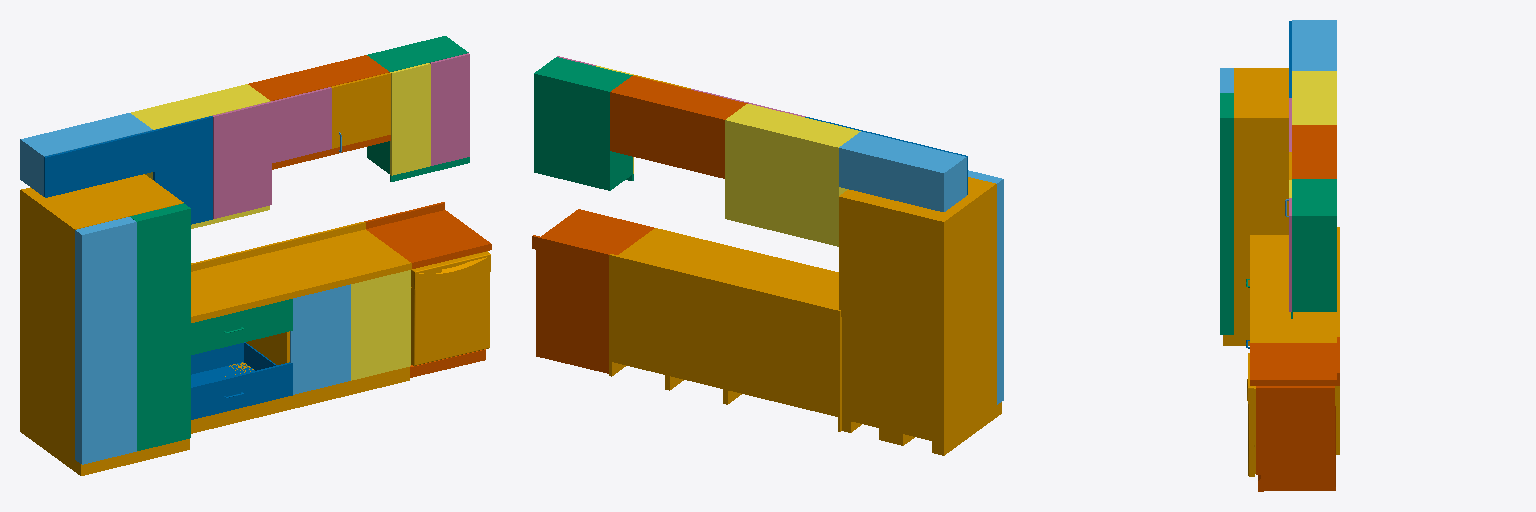
URDF robot description (unnamed):
<robot name="unnamed" version="1.0">
  <joint name="cab_1" type="fixed">
    <origin rpy="0.00000 0.00000 -0.00000" xyz="-0.00000 -0.00000 1.79000"/>
    <parent link="Cabinet1.001_link"/>
    <child link="Cabinet1_link"/>
  </joint>
  <joint name="cab_d_1" type="revolute">
    <limit lower="0.00000" upper="1.50000" effort="0.00000" velocity="0.00000"/>
    <origin rpy="1.57080 -0.00000 1.57080" xyz="-0.00000 -0.31000 0.29600"/>
    <parent link="Cabinet1_link"/>
    <child link="Cabinet1_Door_link"/>
    <axis xyz="0.00000 0.00000 -1.00000"/>
  </joint>
  <joint name="cab_3_d_2" type="prismatic">
    <limit lower="0.00000" upper="0.20000" effort="0.00000" velocity="0.00000"/>
    <origin rpy="1.57080 0.00000 0.00000" xyz="-0.00000 -0.60000 0.23667"/>
    <parent link="Cabinet1.003_link"/>
    <child link="Drawer.004_link"/>
    <axis xyz="0.00000 0.00000 1.00000"/>
  </joint>
  <joint name="cab_3_d_3" type="prismatic">
    <limit lower="0.00000" upper="0.20000" effort="0.00000" velocity="0.00000"/>
    <origin rpy="1.57080 0.00000 0.00000" xyz="-0.00000 -0.60000 -0.00000"/>
    <parent link="Cabinet1.003_link"/>
    <child link="Drawer.003_link"/>
    <axis xyz="0.00000 0.00000 1.00000"/>
  </joint>
  <joint name="cab_4" type="fixed">
    <origin rpy="0.00000 0.00000 -0.00000" xyz="1.73500 -0.00000 1.60106"/>
    <parent link="Cabinet1.001_link"/>
    <child link="Cabinet1.002_link"/>
  </joint>
  <joint name="cab_4_d_1" type="revolute">
    <limit lower="0.00000" upper="1.50000" effort="0.00000" velocity="0.00000"/>
    <origin rpy="0.00000 0.00000 0.00000" xyz="0.00000 -0.31100 0.00000"/>
    <parent link="Cabinet1.002_link"/>
    <child link="Cabinet1_Door.002_link"/>
    <axis xyz="0.00000 0.00000 -1.00000"/>
  </joint>
  <joint name="cab_4_h_1" type="fixed">
    <origin rpy="-0.00000 1.57080 0.00000" xyz="0.39992 -0.02000 0.03777"/>
    <parent link="Cabinet1_Door.002_link"/>
    <child link="Handle.001_link"/>
  </joint>
  <joint name="cab_4_d_2" type="revolute">
    <limit lower="0.00000" upper="1.50000" effort="0.00000" velocity="0.00000"/>
    <origin rpy="0.00000 0.00000 0.00000" xyz="0.90900 -0.31100 0.00000"/>
    <parent link="Cabinet1.002_link"/>
    <child link="Cabinet2_Door.001_link"/>
    <axis xyz="0.00000 0.00000 1.00000"/>
  </joint>
  <joint name="cab_4_h_2" type="fixed">
    <origin rpy="0.00000 1.57080 0.00000" xyz="-0.39992 -0.02000 0.03777"/>
    <parent link="Cabinet2_Door.001_link"/>
    <child link="Handle.002_link"/>
  </joint>
  <joint name="cab_5" type="fixed">
    <origin rpy="0.00000 0.00000 -0.00000" xyz="2.64500 -0.00000 1.29806"/>
    <parent link="Cabinet1.001_link"/>
    <child link="Cabinet1.004_link"/>
  </joint>
  <joint name="cab_5_d_1" type="revolute">
    <limit lower="0.00000" upper="1.50000" effort="0.00000" velocity="0.00000"/>
    <origin rpy="0.00000 0.00000 0.00000" xyz="0.00000 -0.31100 0.00000"/>
    <parent link="Cabinet1.004_link"/>
    <child link="Cabinet1_Door.004_link"/>
    <axis xyz="0.00000 0.00000 -1.00000"/>
  </joint>
  <joint name="cab_5_h_1" type="fixed">
    <origin rpy="0.00000 1.57080 0.00000" xyz="0.24692 -0.02000 0.07577"/>
    <parent link="Cabinet1_Door.004_link"/>
    <child link="Handle.005_link"/>
  </joint>
  <joint name="cab_h_1" type="fixed">
    <origin rpy="-1.57080 -1.57080 0.00000" xyz="-0.02100 -0.25230 0.43077"/>
    <parent link="Cabinet1_Door_link"/>
    <child link="Handle_link"/>
  </joint>
  <joint name="cab_5_d_2" type="revolute">
    <limit lower="0.00000" upper="1.50000" effort="0.00000" velocity="0.00000"/>
    <origin rpy="0.00000 0.00000 0.00000" xyz="0.60300 -0.31100 -0.00000"/>
    <parent link="Cabinet1.004_link"/>
    <child link="Cabinet2_Door.003_link"/>
    <axis xyz="0.00000 0.00000 1.00000"/>
  </joint>
  <joint name="cab_5_h_2" type="fixed">
    <origin rpy="0.00000 1.57080 0.00000" xyz="-0.24692 -0.02000 0.07577"/>
    <parent link="Cabinet2_Door.003_link"/>
    <child link="Handle.006_link"/>
  </joint>
  <joint name="cab_6" type="fixed">
    <origin rpy="0.00000 0.00000 -0.00000" xyz="1.72170 0.00149 0.01860"/>
    <parent link="Cabinet1.001_link"/>
    <child link="Cabinet1.005_link"/>
  </joint>
  <joint name="cab_6_d_1" type="revolute">
    <limit lower="0.00000" upper="1.50000" effort="0.00000" velocity="0.00000"/>
    <origin rpy="0.00000 0.00000 0.00000" xyz="-0.00000 -0.60100 0.00000"/>
    <parent link="Cabinet1.005_link"/>
    <child link="Cabinet1_Door.005_link"/>
    <axis xyz="0.00000 0.00000 -1.00000"/>
  </joint>
  <joint name="cab_6_h_1" type="fixed">
    <origin rpy="0.00000 1.57080 0.00000" xyz="0.40292 -0.00073 0.54577"/>
    <parent link="Cabinet1_Door.005_link"/>
    <child link="Handle.007_link"/>
  </joint>
  <joint name="cab_6_d_2" type="revolute">
    <limit lower="0.00000" upper="1.50000" effort="0.00000" velocity="0.00000"/>
    <origin rpy="0.00000 0.00000 0.00000" xyz="0.91500 -0.60100 0.00000"/>
    <parent link="Cabinet1.005_link"/>
    <child link="Cabinet2_Door.004_link"/>
    <axis xyz="0.00000 0.00000 1.00000"/>
  </joint>
  <joint name="cab_6_h_2" type="fixed">
    <origin rpy="0.00000 1.57080 0.00000" xyz="-0.40292 -0.00073 0.54577"/>
    <parent link="Cabinet2_Door.004_link"/>
    <child link="Handle.008_link"/>
  </joint>
  <joint name="dishwasher" type="fixed">
    <origin rpy="0.00000 0.00000 -0.00000" xyz="2.63770 0.02076 0.72860"/>
    <parent link="Cabinet1.001_link"/>
    <child link="Countertop1_link"/>
  </joint>
  <joint name="dishwasher_base_1" type="fixed">
    <origin rpy="0.00000 0.00000 0.00000" xyz="0.59766 -0.57260 -0.82556"/>
    <parent link="Countertop1_link"/>
    <child link="base_link"/>
  </joint>
  <joint name="dishwasher_d" type="revolute">
    <limit lower="0.00000" upper="1.50000" effort="0.00000" velocity="0.00000"/>
    <origin rpy="-0.00000 1.57080 0.00000" xyz="-0.58432 0.02656 0.13047"/>
    <parent link="base_link"/>
    <child link="door_0_link"/>
    <axis xyz="0.00000 0.00000 1.00000"/>
  </joint>
  <joint name="cab_2" type="fixed">
    <origin rpy="0.00000 0.00000 -0.00000" xyz="1.28500 -0.27900 1.24806"/>
    <parent link="Cabinet1.001_link"/>
    <child link="Baseboard2.001_link"/>
  </joint>
  <joint name="fridge_d_1" type="revolute">
    <limit lower="0.00000" upper="1.50000" effort="0.00000" velocity="0.00000"/>
    <origin rpy="0.00000 0.00000 -0.00000" xyz="-0.00000 -0.70560 0.00000"/>
    <parent link="Cabinet1.001_link"/>
    <child link="Cabinet1_Door.001_link"/>
    <axis xyz="0.00000 0.00000 -1.00000"/>
  </joint>
  <joint name="fridge_d_2" type="revolute">
    <limit lower="0.00000" upper="1.50000" effort="0.00000" velocity="0.00000"/>
    <origin rpy="0.00000 0.00000 -0.00000" xyz="0.83400 -0.72100 0.00000"/>
    <parent link="Cabinet1.001_link"/>
    <child link="Cabinet2_Door_link"/>
    <axis xyz="0.00000 0.00000 1.00000"/>
  </joint>
  <joint name="cab_2_d_1" type="revolute">
    <limit lower="0.00000" upper="1.50000" effort="0.00000" velocity="0.00000"/>
    <origin rpy="0.00000 0.00000 0.00000" xyz="-0.45000 -0.03200 0.05000"/>
    <parent link="Baseboard2.001_link"/>
    <child link="Cabinet1_Door.003_link"/>
    <axis xyz="0.00000 0.00000 -1.00000"/>
  </joint>
  <joint name="cab_2_h_1" type="fixed">
    <origin rpy="-0.00000 1.57080 0.00000" xyz="0.39492 -0.02000 0.06577"/>
    <parent link="Cabinet1_Door.003_link"/>
    <child link="Handle.003_link"/>
  </joint>
  <joint name="cab_2_d_2" type="revolute">
    <limit lower="0.00000" upper="1.50000" effort="0.00000" velocity="0.00000"/>
    <origin rpy="0.00000 0.00000 0.00000" xyz="0.45000 0.00000 0.05000"/>
    <parent link="Baseboard2.001_link"/>
    <child link="Cabinet2_Door.002_link"/>
    <axis xyz="0.00000 0.00000 1.00000"/>
  </joint>
  <joint name="cab_2_h_2" type="fixed">
    <origin rpy="-0.00000 1.57080 0.00000" xyz="-0.39592 -0.05200 0.06577"/>
    <parent link="Cabinet2_Door.002_link"/>
    <child link="Handle.004_link"/>
  </joint>
  <joint name="cab_3" type="fixed">
    <origin rpy="0.00000 0.00000 -0.00000" xyz="0.81170 0.00149 0.01860"/>
    <parent link="Cabinet1.001_link"/>
    <child link="Cabinet1.003_link"/>
  </joint>
  <joint name="cab_3_d_1" type="prismatic">
    <limit lower="0.00000" upper="0.20000" effort="0.00000" velocity="0.00000"/>
    <origin rpy="1.57080 0.00000 0.00000" xyz="-0.00000 -0.60000 0.47333"/>
    <parent link="Cabinet1.003_link"/>
    <child link="Drawer.005_link"/>
    <axis xyz="0.00000 0.00000 1.00000"/>
  </joint>
  <link name="Cabinet1.001_link">
    <visual name="Cabinet1.001">
      <material name="None"/>
      <origin rpy="0.00000 0.00000 -0.00000" xyz="0.00000 0.00000 0.00000"/>
      <geometry>
        <mesh filename="../meshes/stl/Cabinet1.005.stl" scale="1.00000 1.00000 1.00000"/>
      </geometry>
    </visual>
  </link>
  <link name="Cabinet1_link">
    <visual name="Cabinet1">
      <material name="None"/>
      <origin rpy="0.00000 0.00000 0.00000" xyz="-0.00000 0.00000 -0.03794"/>
      <geometry>
        <mesh filename="../meshes/stl/Cabinet1.004.stl" scale="1.00000 1.00000 1.00000"/>
      </geometry>
    </visual>
  </link>
  <link name="Drawer.005_link">
    <visual name="Drawer.005">
      <material name="None"/>
      <origin rpy="-1.57080 -0.00000 0.00000" xyz="0.00901 -0.00000 -0.01306"/>
      <geometry>
        <mesh filename="../meshes/stl/Drawer.014.stl" scale="1.00000 1.00000 1.00000"/>
      </geometry>
    </visual>
  </link>
  <link name="Drawer.004_link">
    <visual name="Drawer.004">
      <material name="None"/>
      <origin rpy="-1.57080 -0.00000 0.00000" xyz="0.00901 0.00000 -0.01306"/>
      <geometry>
        <mesh filename="../meshes/stl/Drawer.013.stl" scale="1.00000 1.00000 1.00000"/>
      </geometry>
    </visual>
  </link>
  <link name="Drawer.003_link">
    <visual name="Drawer.003">
      <material name="None"/>
      <origin rpy="-1.57080 -0.00000 0.00000" xyz="0.00901 -0.00000 -0.01306"/>
      <geometry>
        <mesh filename="../meshes/stl/Drawer.012.stl" scale="1.00000 1.00000 1.00000"/>
      </geometry>
    </visual>
  </link>
  <link name="Cabinet1.002_link">
    <visual name="Cabinet1.002">
      <material name="None"/>
      <origin rpy="0.00000 0.00000 -0.00000" xyz="-0.00000 0.00000 -0.00000"/>
      <geometry>
        <mesh filename="../meshes/stl/Cabinet1.002.stl" scale="1.00000 1.00000 1.00000"/>
      </geometry>
    </visual>
  </link>
  <link name="Cabinet1_Door.002_link">
    <visual name="Cabinet1_Door.002">
      <material name="None"/>
      <origin rpy="0.00000 0.00000 -0.00000" xyz="0.00000 -0.00000 0.00000"/>
      <geometry>
        <mesh filename="../meshes/stl/Cabinet1_Door.002.stl" scale="1.00000 1.00000 1.00000"/>
      </geometry>
    </visual>
  </link>
  <link name="Handle.001_link">
    <visual name="Handle.001">
      <material name="None"/>
      <origin rpy="0.00000 -0.00000 -0.00000" xyz="0.00000 0.00000 0.00000"/>
      <geometry>
        <mesh filename="../meshes/stl/Handle.004.stl" scale="1.00000 1.00000 1.00000"/>
      </geometry>
    </visual>
  </link>
  <link name="Cabinet2_Door.001_link">
    <visual name="Cabinet2_Door.001">
      <material name="None"/>
      <origin rpy="0.00000 0.00000 -0.00000" xyz="-0.00000 -0.00000 0.00000"/>
      <geometry>
        <mesh filename="../meshes/stl/Cabinet2_Door.003.stl" scale="1.00000 1.00000 1.00000"/>
      </geometry>
    </visual>
  </link>
  <link name="Handle.002_link">
    <visual name="Handle.002">
      <material name="None"/>
      <origin rpy="0.00000 0.00000 0.00000" xyz="0.00000 0.00000 0.00000"/>
      <geometry>
        <mesh filename="../meshes/stl/Handle.005.stl" scale="1.00000 1.00000 1.00000"/>
      </geometry>
    </visual>
  </link>
  <link name="Cabinet1.004_link">
    <visual name="Cabinet1.004">
      <material name="None"/>
      <origin rpy="0.00000 0.00000 0.00000" xyz="-0.00000 -0.00000 -0.00000"/>
      <geometry>
        <mesh filename="../meshes/stl/Cabinet1.003.stl" scale="1.00000 1.00000 1.00000"/>
      </geometry>
    </visual>
  </link>
  <link name="Cabinet1_Door.004_link">
    <visual name="Cabinet1_Door.004">
      <material name="None"/>
      <origin rpy="0.00000 0.00000 -0.00000" xyz="0.00000 0.00000 0.00000"/>
      <geometry>
        <mesh filename="../meshes/stl/Cabinet1_Door.005.stl" scale="1.00000 1.00000 1.00000"/>
      </geometry>
    </visual>
  </link>
  <link name="Cabinet1_Door_link">
    <visual name="Cabinet1_Door">
      <material name="None"/>
      <origin rpy="1.85332 -1.57080 2.85907" xyz="-0.00100 -0.33394 0.00000"/>
      <geometry>
        <mesh filename="../meshes/stl/Cabinet1_Door.003.stl" scale="1.00000 1.00000 1.00000"/>
      </geometry>
    </visual>
  </link>
  <link name="Handle.005_link">
    <visual name="Handle.005">
      <material name="None"/>
      <origin rpy="-0.00000 0.00000 -0.00000" xyz="0.00000 -0.00000 -0.00000"/>
      <geometry>
        <mesh filename="../meshes/stl/Handle.006.stl" scale="1.00000 1.00000 1.00000"/>
      </geometry>
    </visual>
  </link>
  <link name="Cabinet2_Door.003_link">
    <visual name="Cabinet2_Door.003">
      <material name="None"/>
      <origin rpy="0.00000 0.00000 -0.00000" xyz="-0.00000 0.00000 0.00000"/>
      <geometry>
        <mesh filename="../meshes/stl/Cabinet2_Door.005.stl" scale="1.00000 1.00000 1.00000"/>
      </geometry>
    </visual>
  </link>
  <link name="Handle.006_link">
    <visual name="Handle.006">
      <material name="None"/>
      <origin rpy="-0.00000 0.00000 0.00000" xyz="-0.00000 0.00000 -0.00000"/>
      <geometry>
        <mesh filename="../meshes/stl/Handle.007.stl" scale="1.00000 1.00000 1.00000"/>
      </geometry>
    </visual>
  </link>
  <link name="Cabinet1.005_link">
    <visual name="Cabinet1.005">
      <material name="None"/>
      <origin rpy="0.00000 0.00000 -0.00000" xyz="-0.00000 0.01927 0.00000"/>
      <geometry>
        <mesh filename="../meshes/stl/Cabinet1.007.stl" scale="1.00000 1.00000 1.00000"/>
      </geometry>
    </visual>
  </link>
  <link name="Cabinet1_Door.005_link">
    <visual name="Cabinet1_Door.005">
      <material name="None"/>
      <origin rpy="0.00000 0.00000 0.00000" xyz="-0.00000 0.01927 -0.00000"/>
      <geometry>
        <mesh filename="../meshes/stl/Cabinet1_Door.008.stl" scale="1.00000 1.00000 1.00000"/>
      </geometry>
    </visual>
  </link>
  <link name="Handle.007_link">
    <visual name="Handle.007">
      <material name="None"/>
      <origin rpy="-0.00000 -0.00000 0.00000" xyz="-0.00000 -0.00000 0.00000"/>
      <geometry>
        <mesh filename="../meshes/stl/Handle.011.stl" scale="1.00000 1.00000 1.00000"/>
      </geometry>
    </visual>
  </link>
  <link name="Cabinet2_Door.004_link">
    <visual name="Cabinet2_Door.004">
      <material name="None"/>
      <origin rpy="0.00000 0.00000 0.00000" xyz="0.00000 0.01927 -0.00000"/>
      <geometry>
        <mesh filename="../meshes/stl/Cabinet2_Door.007.stl" scale="1.00000 1.00000 1.00000"/>
      </geometry>
    </visual>
  </link>
  <link name="Handle.008_link">
    <visual name="Handle.008">
      <material name="None"/>
      <origin rpy="-0.00000 -0.00000 0.00000" xyz="-0.00000 -0.00000 0.00000"/>
      <geometry>
        <mesh filename="../meshes/stl/Handle.012.stl" scale="1.00000 1.00000 1.00000"/>
      </geometry>
    </visual>
  </link>
  <link name="Countertop1_link">
    <visual name="Countertop1">
      <material name="None"/>
      <origin rpy="0.00000 0.00000 -0.00000" xyz="0.00000 -0.00000 0.00000"/>
      <geometry>
        <mesh filename="../meshes/stl/Countertop1.002.stl" scale="1.00000 1.00000 1.00000"/>
      </geometry>
    </visual>
    <visual name="base">
      <material name="None"/>
      <origin rpy="-1.56905 0.00724 -0.60712" xyz="0.10115 -0.76896 -0.85766"/>
      <geometry>
        <mesh filename="../meshes/stl/base.stl" scale="1.00000 1.00000 1.00000"/>
      </geometry>
    </visual>
  </link>
  <link name="base_link"/>
  <link name="Handle_link">
    <visual name="Handle">
      <material name="None"/>
      <origin rpy="-0.00000 0.00000 0.00000" xyz="0.00000 -0.00000 -0.00000"/>
      <geometry>
        <mesh filename="../meshes/stl/Handle.008.stl" scale="1.00000 1.00000 1.00000"/>
      </geometry>
    </visual>
  </link>
  <link name="door_0_link">
    <visual name="door_0">
      <material name="None"/>
      <origin rpy="-0.00867 -0.96364 -1.55811" xyz="0.16258 -0.22291 0.08781"/>
      <geometry>
        <mesh filename="../meshes/stl/door_0.stl" scale="1.00000 1.00000 1.00000"/>
      </geometry>
    </visual>
  </link>
  <link name="Cabinet1_Door.001_link">
    <visual name="Cabinet1_Door.001">
      <material name="None"/>
      <origin rpy="0.00000 0.00000 -0.00000" xyz="0.41650 -0.01540 -0.00000"/>
      <geometry>
        <mesh filename="../meshes/stl/Cabinet1_Door.004.stl" scale="1.00000 1.00000 1.00000"/>
      </geometry>
    </visual>
  </link>
  <link name="Cabinet2_Door_link">
    <visual name="Cabinet2_Door">
      <material name="None"/>
      <origin rpy="0.00000 0.00000 -0.00000" xyz="-0.41650 0.00000 -0.00000"/>
      <geometry>
        <mesh filename="../meshes/stl/Cabinet2_Door.002.stl" scale="1.00000 1.00000 1.00000"/>
      </geometry>
    </visual>
  </link>
  <link name="Baseboard2.001_link">
    <visual name="Baseboard2.001">
      <material name="None"/>
      <origin rpy="0.00000 0.00000 -0.00000" xyz="0.00000 0.00000 -0.00000"/>
      <geometry>
        <mesh filename="../meshes/stl/Baseboard2.001.stl" scale="1.00000 1.00000 1.00000"/>
      </geometry>
    </visual>
  </link>
  <link name="Cabinet1_Door.003_link">
    <visual name="Cabinet1_Door.003">
      <material name="None"/>
      <origin rpy="0.00000 0.00000 0.00000" xyz="-0.00000 -0.00000 -0.00000"/>
      <geometry>
        <mesh filename="../meshes/stl/Cabinet1_Door.001.stl" scale="1.00000 1.00000 1.00000"/>
      </geometry>
    </visual>
  </link>
  <link name="Handle.003_link">
    <visual name="Handle.003">
      <material name="None"/>
      <origin rpy="0.00000 -0.00000 0.00000" xyz="-0.00000 -0.00000 0.00000"/>
      <geometry>
        <mesh filename="../meshes/stl/Handle.002.stl" scale="1.00000 1.00000 1.00000"/>
      </geometry>
    </visual>
  </link>
  <link name="Cabinet2_Door.002_link">
    <visual name="Cabinet2_Door.002">
      <material name="None"/>
      <origin rpy="0.00000 0.00000 0.00000" xyz="-0.00100 -0.03200 -0.00000"/>
      <geometry>
        <mesh filename="../meshes/stl/Cabinet2_Door.001.stl" scale="1.00000 1.00000 1.00000"/>
      </geometry>
    </visual>
  </link>
  <link name="Handle.004_link">
    <visual name="Handle.004">
      <material name="None"/>
      <origin rpy="0.00000 -0.00000 0.00000" xyz="-0.00000 -0.00000 0.00000"/>
      <geometry>
        <mesh filename="../meshes/stl/Handle.003.stl" scale="1.00000 1.00000 1.00000"/>
      </geometry>
    </visual>
  </link>
  <link name="Cabinet1.003_link">
    <visual name="Cabinet1.003">
      <material name="None"/>
      <origin rpy="0.00000 0.00000 -0.00000" xyz="-0.00000 0.01927 -0.00000"/>
      <geometry>
        <mesh filename="../meshes/stl/Cabinet1.009.stl" scale="1.00000 1.00000 1.00000"/>
      </geometry>
    </visual>
  </link>
</robot>

--- Facts derived from the render (not from the file) ---
The picture shows the robot from 3 angles, left to right: view 1: azimuth 30°, elevation 25°; view 2: azimuth 150°, elevation 25°; view 3: azimuth 270°, elevation 25°; orthographic projection.
Model unnamed with 33 links and 32 joints (12 revolute, 3 prismatic, 17 fixed), rooted at Cabinet1.001_link, posed every joint at zero.
Links seen in each view (by area): view 1: Cabinet1.001_link, Cabinet1_Door.001_link, Cabinet2_Door_link, Cabinet1.005_link, door_0_link, Cabinet1.003_link, Cabinet2_Door.002_link, Cabinet2_Door.004_link, Cabinet1_Door.005_link, Countertop1_link, Drawer.003_link, Cabinet1_Door.003_link (+10 smaller); view 2: Cabinet1.001_link, Cabinet1.005_link, Cabinet1.003_link, Baseboard2.001_link, Countertop1_link, Cabinet1.004_link, Cabinet1.002_link, Cabinet1_link, Cabinet1_Door.001_link; view 3: Countertop1_link, Cabinet1.001_link, Cabinet1.004_link, Cabinet1.005_link, Cabinet2_Door_link, Cabinet1.002_link, Baseboard2.001_link, Cabinet1_link, Cabinet1.003_link, door_0_link.
Link boxes in pixels (x1,y1,x2,y2): Cabinet1.001_link: (20, 174, 189, 475); Cabinet1_Door.001_link: (75, 217, 136, 464); Cabinet2_Door_link: (130, 203, 190, 450); Cabinet1.005_link: (245, 222, 411, 409); door_0_link: (411, 251, 490, 365); Cabinet1.003_link: (191, 251, 291, 433); Cabinet2_Door.002_link: (213, 102, 271, 218); Cabinet2_Door.004_link: (351, 270, 410, 380); Cabinet1_Door.005_link: (290, 284, 350, 394); Countertop1_link: (364, 202, 491, 377); Drawer.003_link: (191, 342, 292, 419); Cabinet1_Door.003_link: (153, 116, 212, 224); Cabinet1.001_link: (839, 177, 1001, 455); Cabinet1.005_link: (609, 228, 769, 403); Cabinet1.003_link: (725, 256, 841, 431); Baseboard2.001_link: (725, 104, 860, 246); Countertop1_link: (532, 209, 654, 373); Cabinet1.004_link: (534, 57, 633, 190); Cabinet1.002_link: (610, 76, 747, 178); Cabinet1_link: (839, 131, 966, 211); Cabinet1_Door.001_link: (968, 170, 1003, 404); Countertop1_link: (1250, 337, 1339, 491); Cabinet1.001_link: (1223, 68, 1288, 345); Cabinet1.004_link: (1291, 179, 1336, 318); Cabinet1.005_link: (1250, 282, 1339, 454); Cabinet2_Door_link: (1220, 93, 1233, 334); Cabinet1.002_link: (1292, 125, 1336, 178); Baseboard2.001_link: (1292, 71, 1336, 124); Cabinet1_link: (1292, 20, 1336, 70); Cabinet1.003_link: (1250, 227, 1339, 287); door_0_link: (1247, 353, 1255, 476).
Bounding box of the posed robot: 3.25 × 0.8368 × 2.15 m (x, y, z).
24 mesh visuals loaded from 33 distinct referenced files (24 binary STL); not drawn: 9 (reference not matched to a file when rendering).
